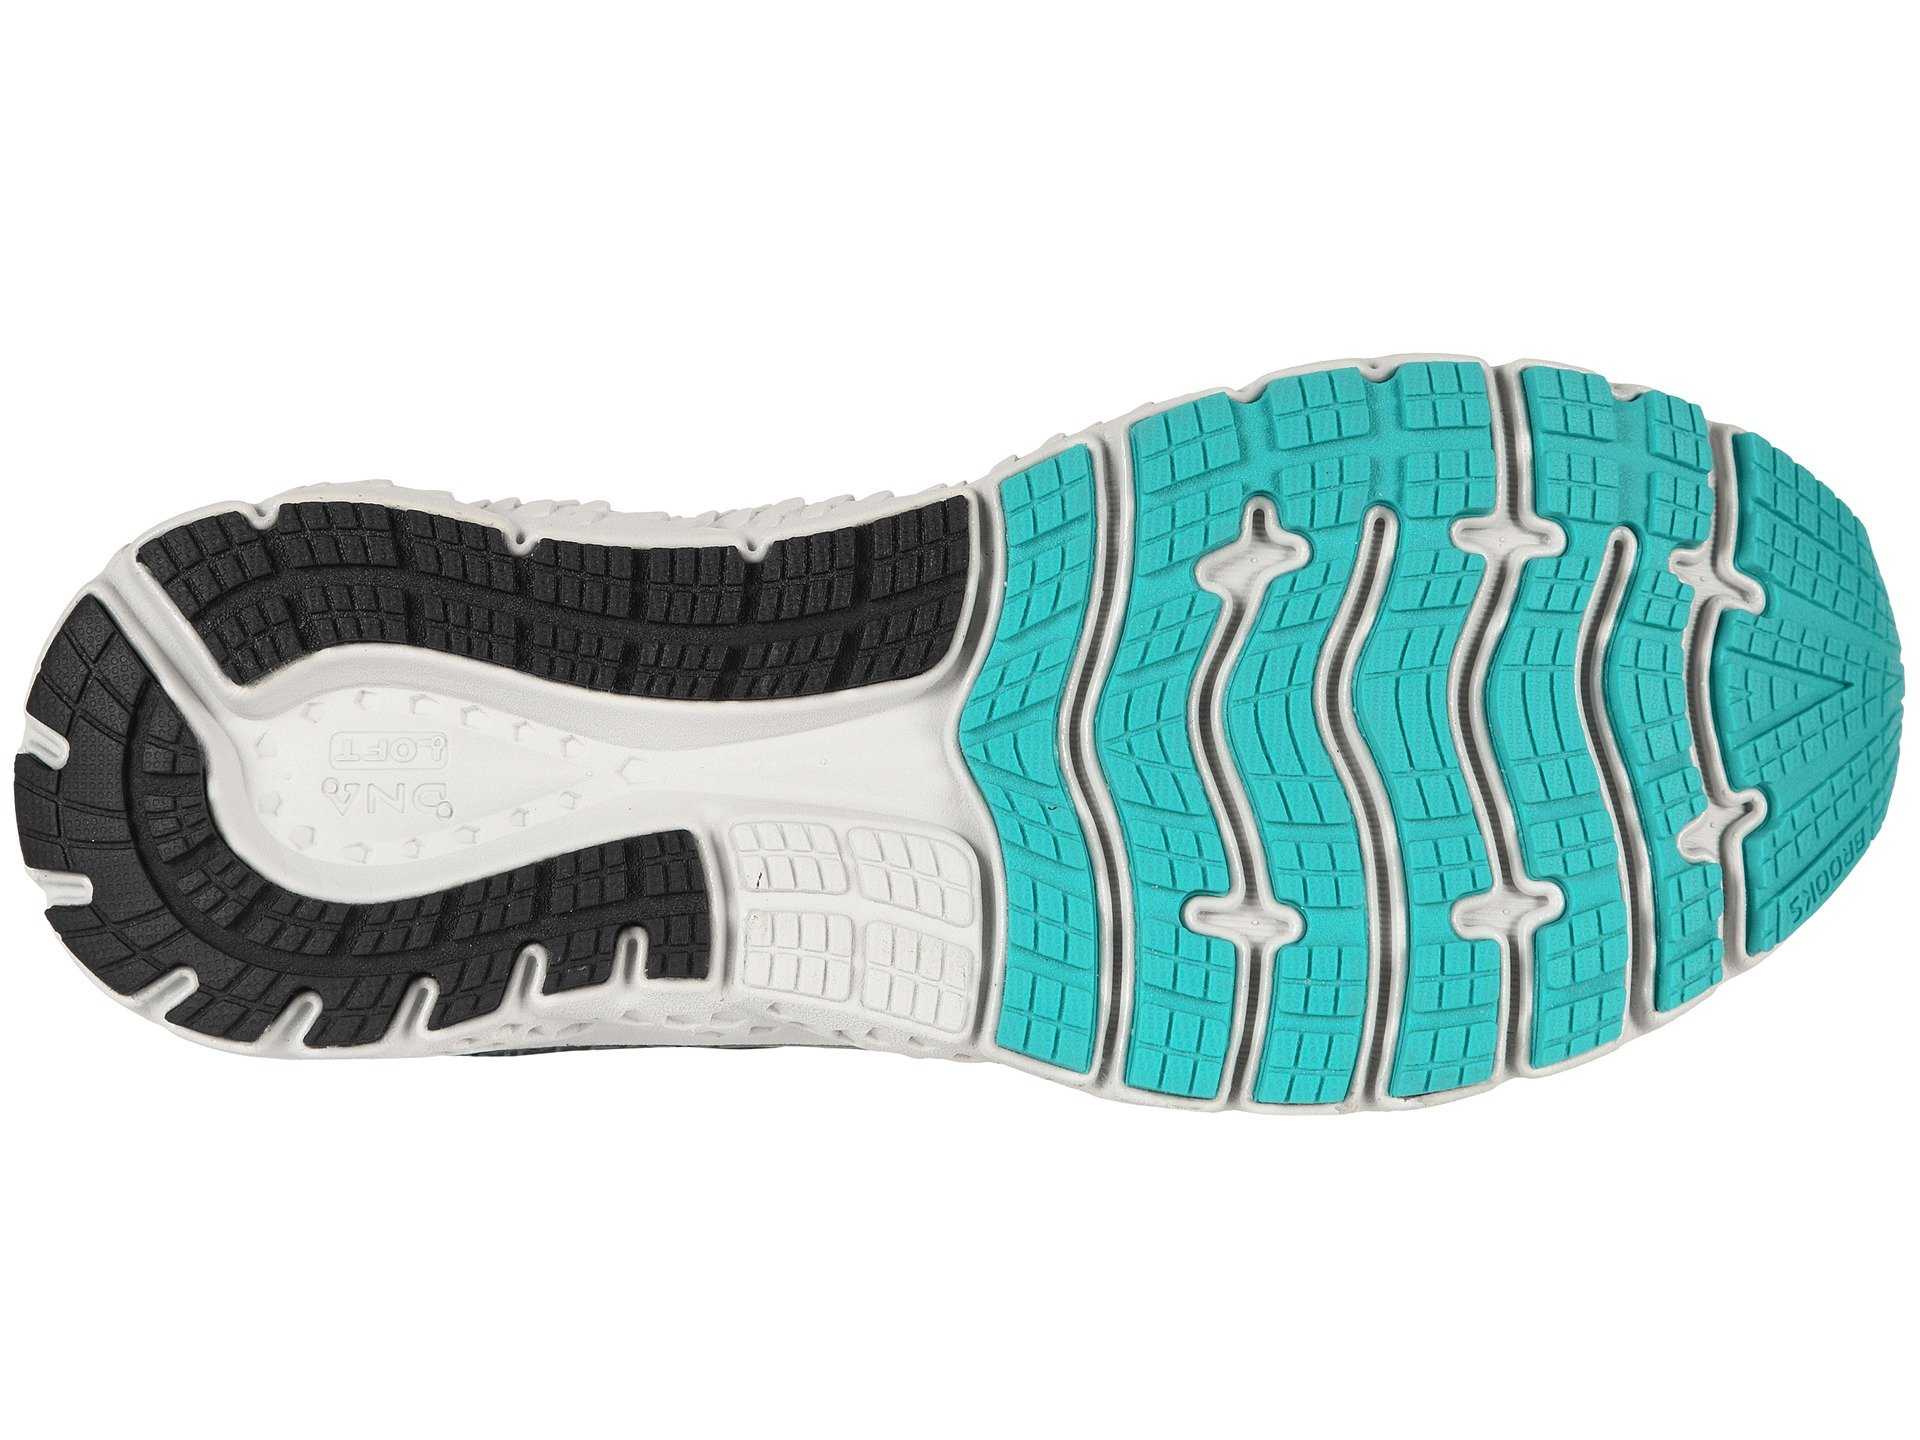chevron: (460, 343, 605, 492), (1748, 268, 1884, 419)
circle: (327, 378, 434, 484)
line: (957, 315, 1203, 523), (1206, 280, 1401, 481)
polygon: (460, 343, 605, 492)
quad: (1394, 212, 1677, 458), (957, 315, 1203, 523), (1120, 274, 1336, 486), (1206, 280, 1401, 481), (768, 472, 948, 653), (558, 178, 739, 355), (763, 180, 919, 328), (1748, 268, 1884, 419)
text: (327, 378, 434, 484)
triangle: (957, 315, 1203, 523), (1748, 268, 1884, 419)
